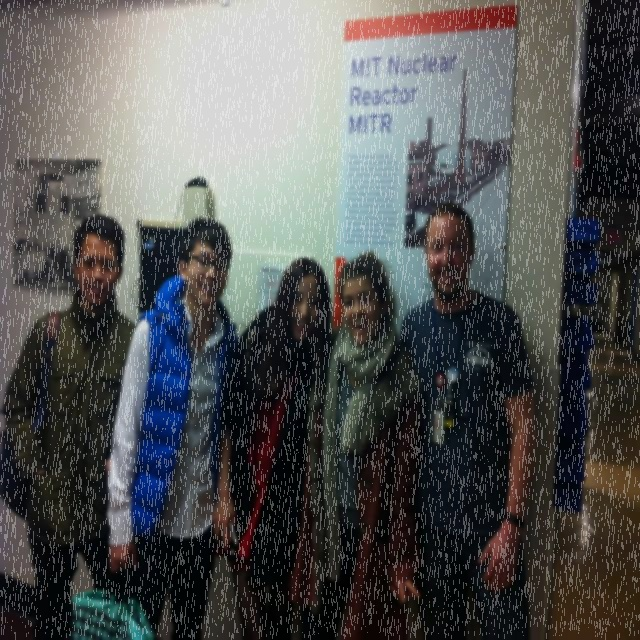pessoa: (391, 198, 543, 640), (104, 213, 243, 639), (1, 212, 138, 638), (283, 248, 424, 640), (212, 258, 332, 640), (19, 160, 74, 282)
